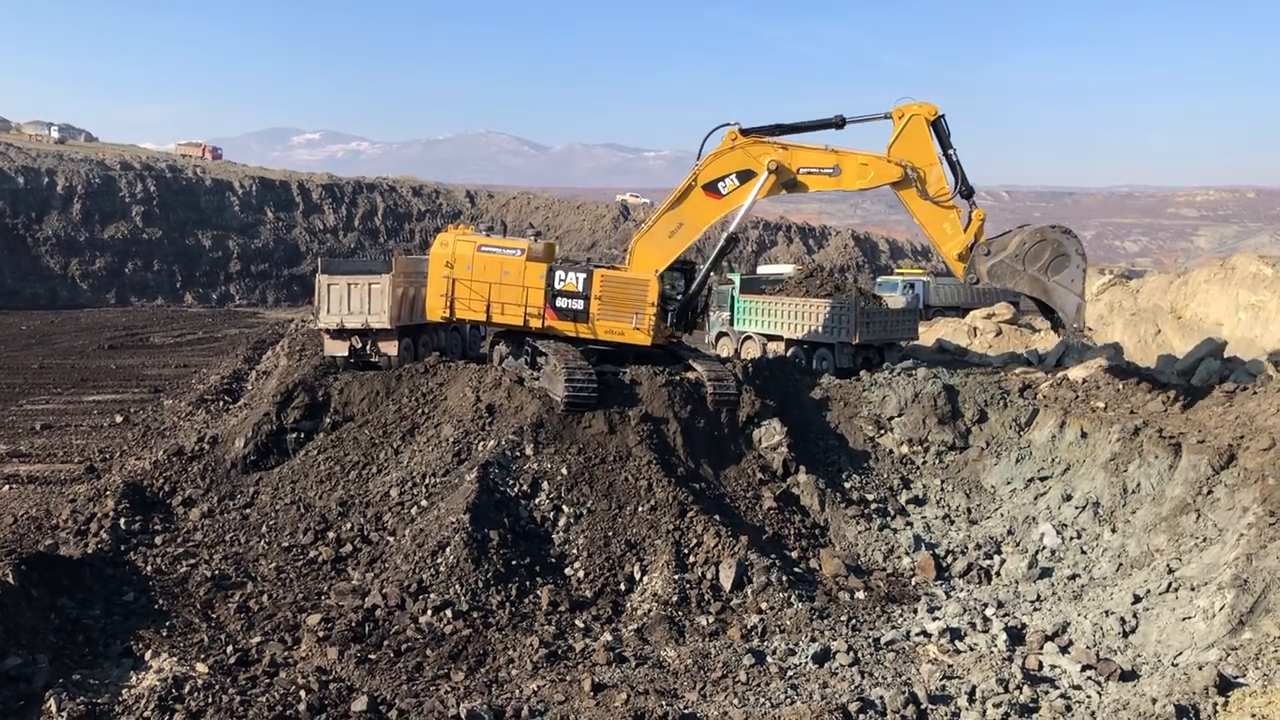empty: (948, 217, 1094, 348)
